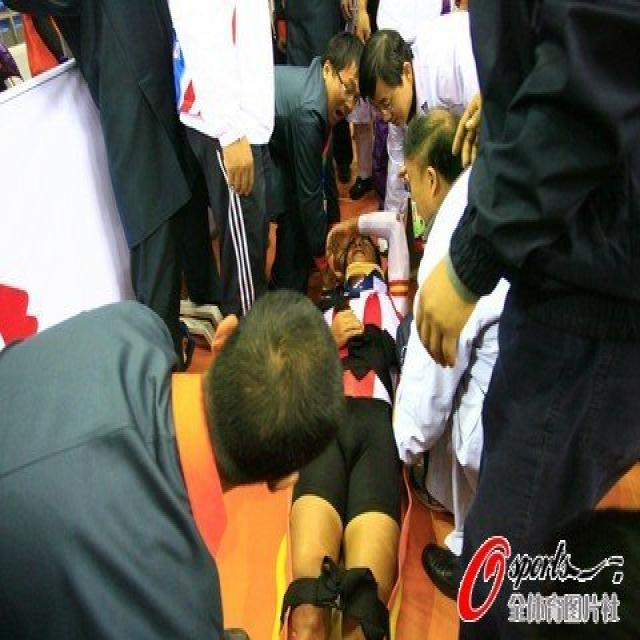10-: (1, 0, 638, 636)
down: (277, 206, 412, 630)
